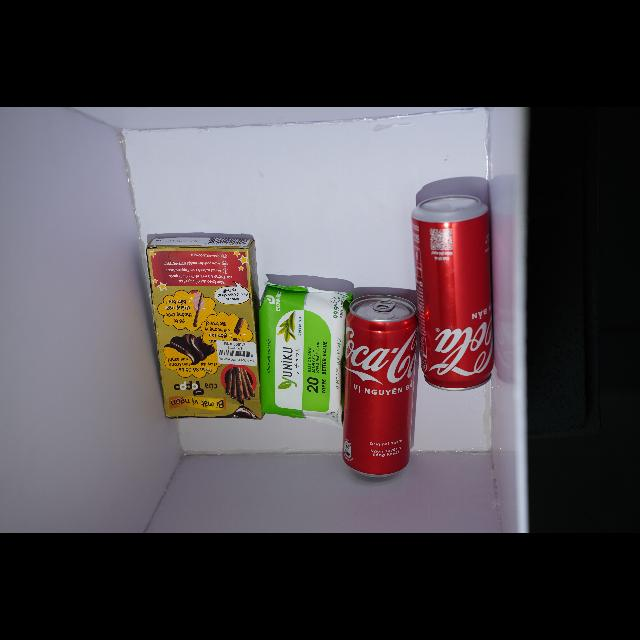banh_toppo_socola: (145, 238, 264, 418)
coca_cola: (412, 195, 493, 391), (342, 294, 418, 477)
khan_giay: (260, 284, 351, 426)
